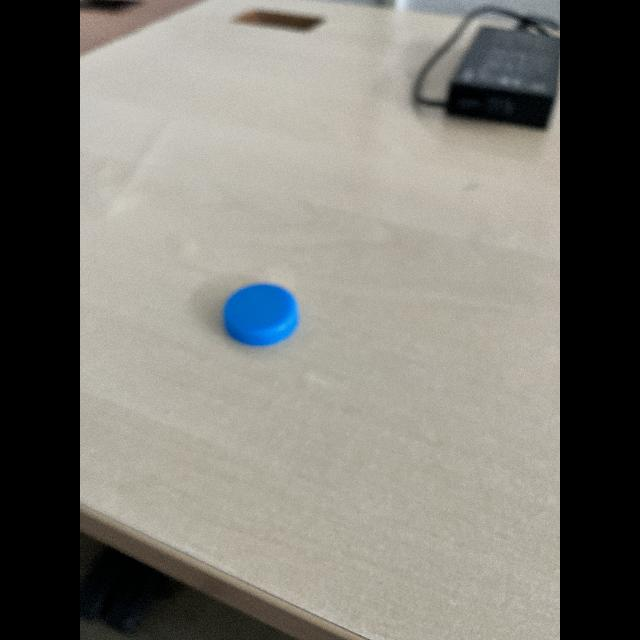plastic_bottle_cap: (222, 275, 300, 351)
